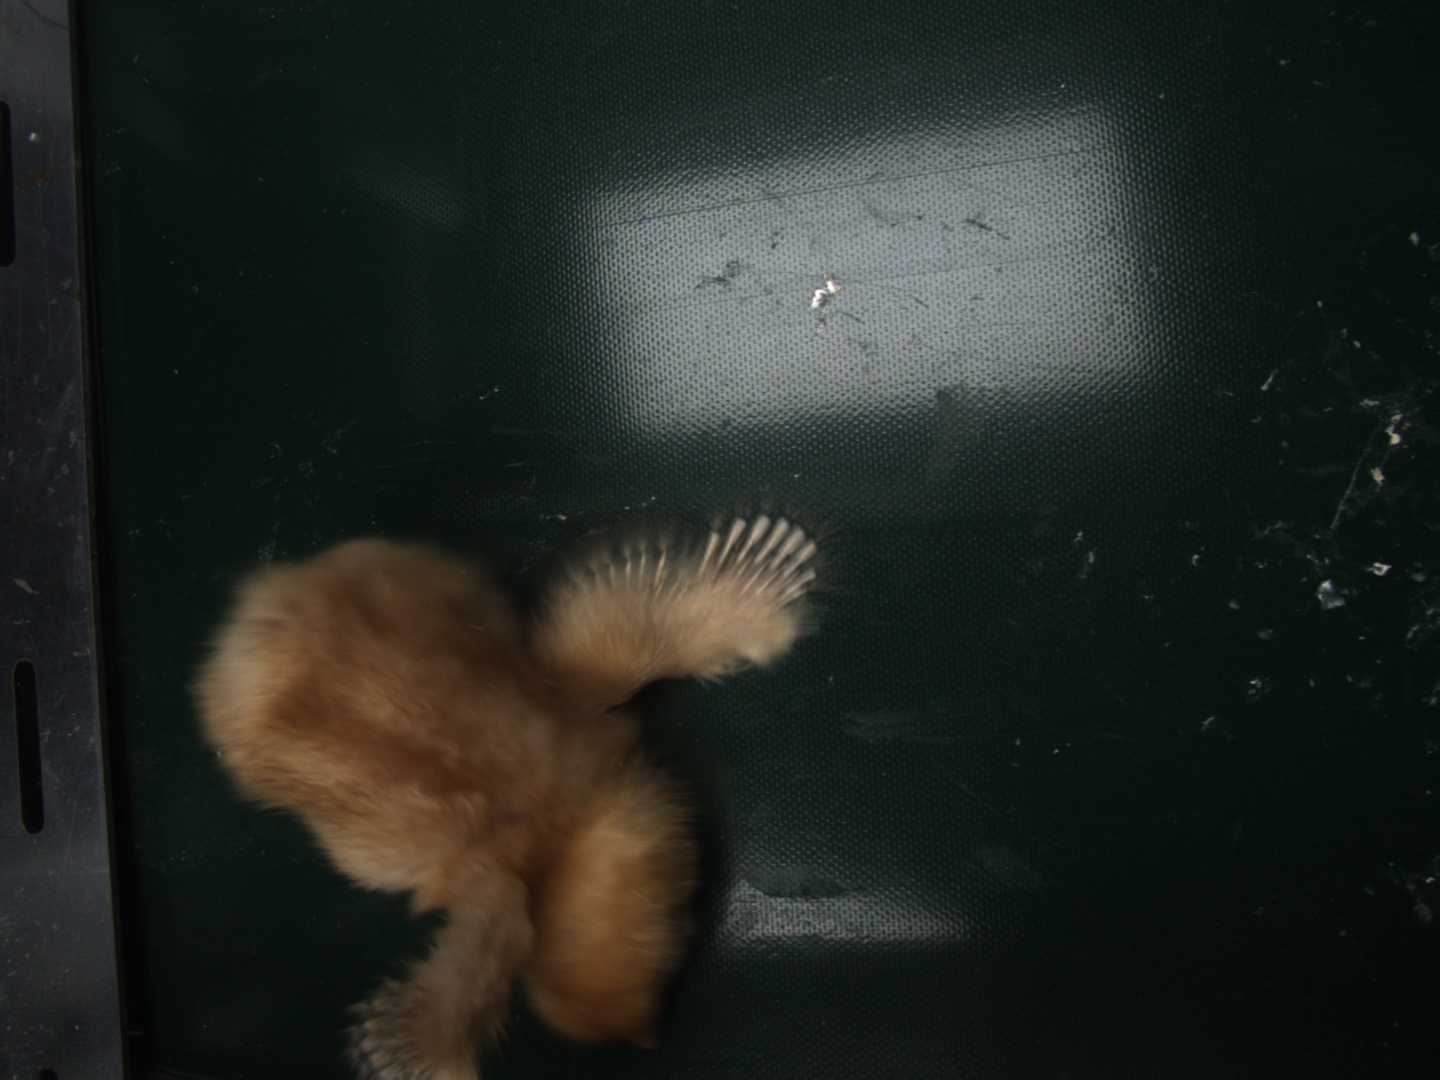female: (702, 515, 818, 614)
